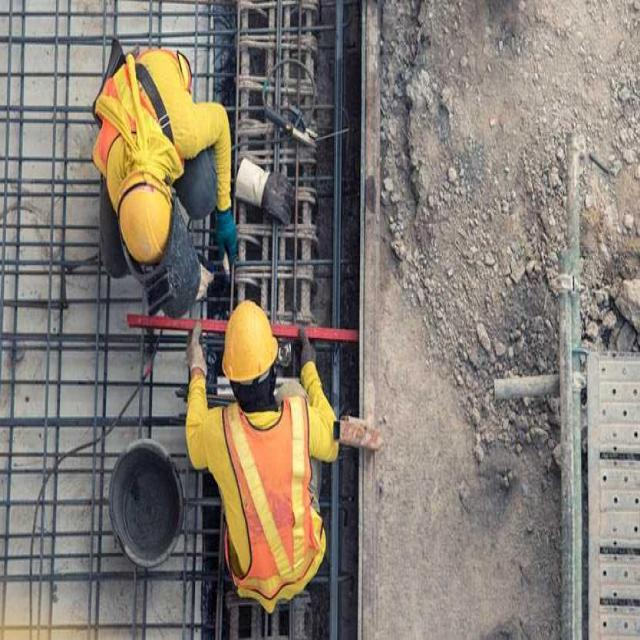Reflective-Jacket: (216, 393, 324, 598), (94, 41, 198, 202)
Safety-Helmet: (219, 296, 281, 392), (119, 170, 175, 268)
